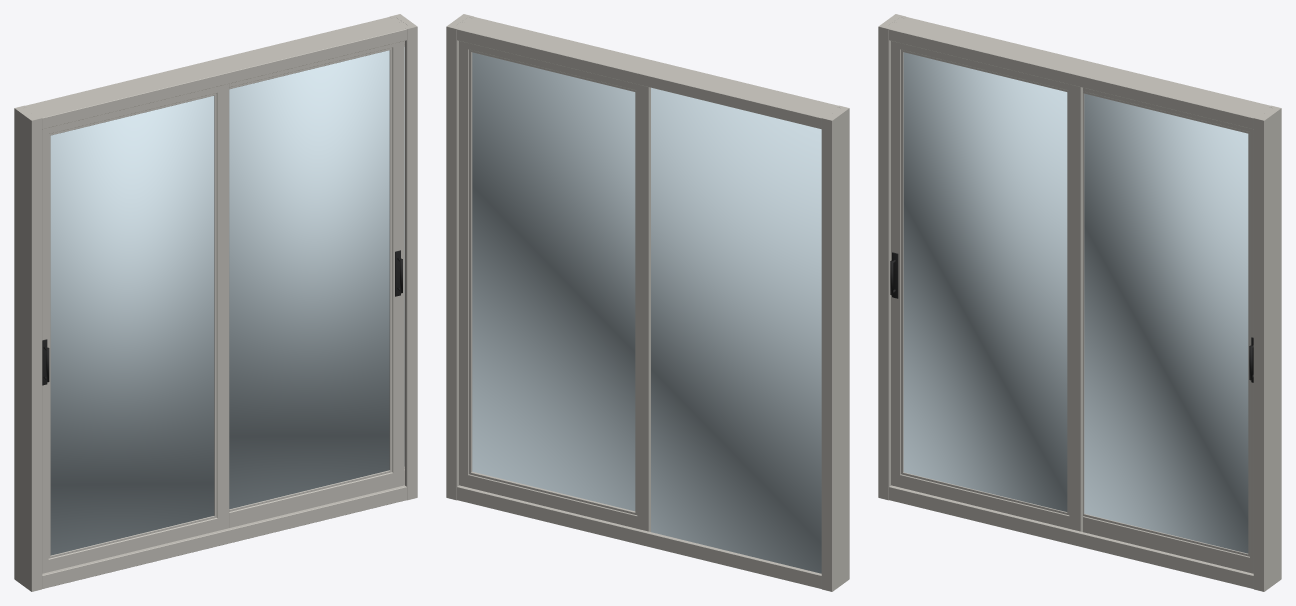
Rendered from glassdoor.glb.
3 renders of one model, left to right at view 1: azimuth 30°, elevation 25°; view 2: azimuth 150°, elevation 25°; view 3: azimuth 330°, elevation 25°, orthographic.
Parts seen in each view (by area): view 1: glass_l, glass_r, jamb_l, head, in_l_sb, in_r_sb, jamb_r, sill, in_l_sa, in_r_low, in_l_low, in_l_top (+1 smaller); view 2: glass_out, jamb_l, head, out_r_sa, jamb_r, out_r_sb, sill, out_r_low, out_r_top; view 3: glass_r, glass_l, jamb_r, head, in_l_sb, jamb_l, sill, in_l_sa, in_r_low, in_l_low, in_r_sb, in_l_top (+2 smaller).
Part boxes in pixels (x1,y1,x2,y2): glass_l: (50,96,214,555); glass_r: (229,47,404,509); jamb_l: (14,105,42,591); head: (23,17,408,129); in_l_sb: (214,84,229,529); in_r_sb: (389,44,404,487); jamb_r: (390,14,417,500); sill: (42,485,406,588); in_l_sa: (42,128,50,573); in_r_low: (229,467,404,527); in_l_low: (48,516,222,571); in_l_top: (42,85,222,135); glass_out: (472,52,821,573); jamb_l: (821,105,849,591); head: (455,17,840,129); out_r_sa: (635,84,650,531); jamb_r: (446,14,473,500); out_r_sb: (459,41,472,486); sill: (457,485,821,588); out_r_low: (459,471,641,529); out_r_top: (459,41,641,91); glass_r: (1084,93,1248,553); glass_l: (903,52,1067,511); jamb_r: (1253,105,1281,591); head: (887,17,1272,129); in_l_sb: (1067,85,1082,531); jamb_l: (878,14,905,500); sill: (889,485,1253,588); in_l_sa: (891,41,903,487); in_r_low: (1083,514,1250,572); in_l_low: (891,472,1073,529); in_r_sb: (1248,128,1253,573); in_l_top: (891,41,1073,91).
Bounding box in the file's own units: 1.8 × 2.1 × 0.157.
